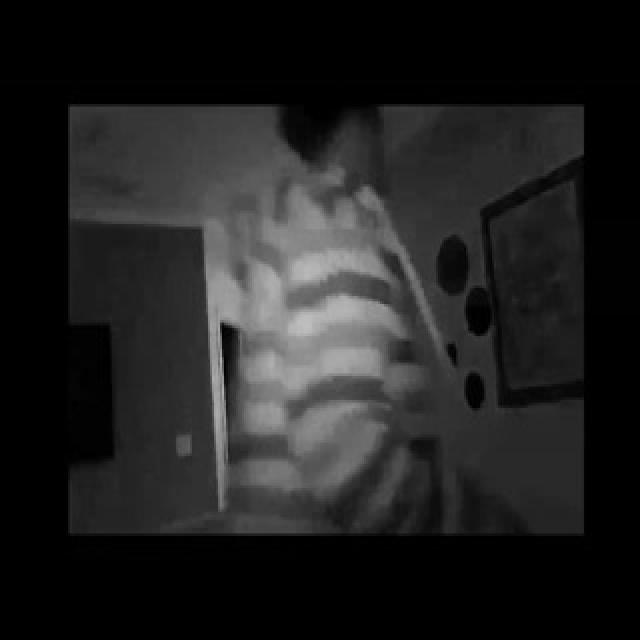thief: (264, 96, 411, 218)
